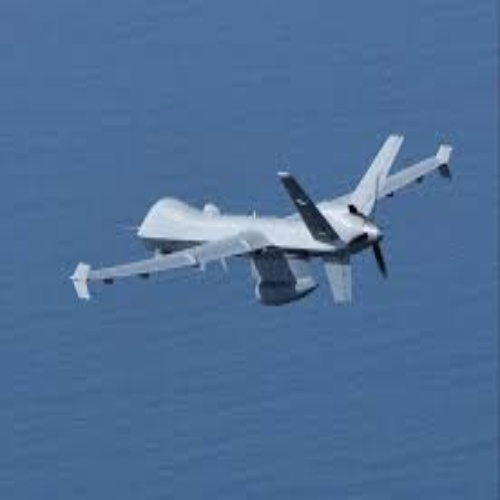uav: (68, 133, 456, 306)
